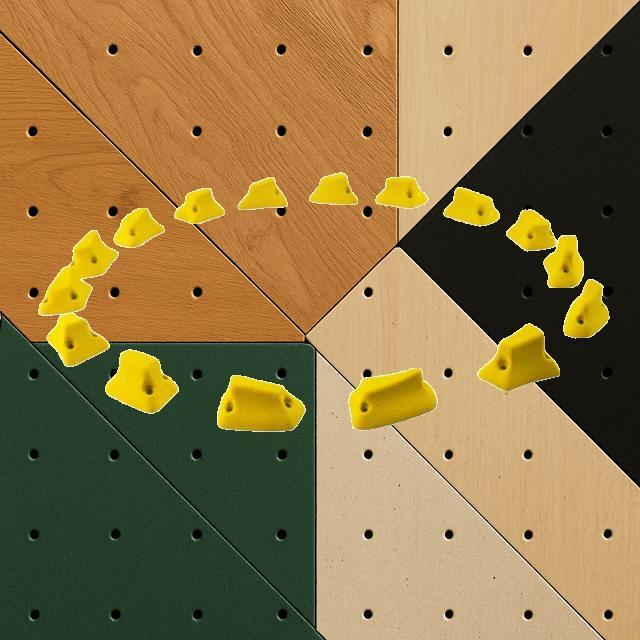Pinch: (476, 323, 560, 391), (348, 366, 436, 430), (217, 374, 305, 431), (105, 349, 177, 413), (46, 314, 108, 366), (39, 263, 91, 315), (564, 278, 608, 338), (70, 229, 118, 277), (443, 187, 499, 226), (114, 206, 164, 248), (543, 235, 583, 287), (507, 208, 555, 250), (173, 186, 224, 224), (375, 176, 427, 208), (238, 177, 286, 210), (309, 172, 357, 204)
